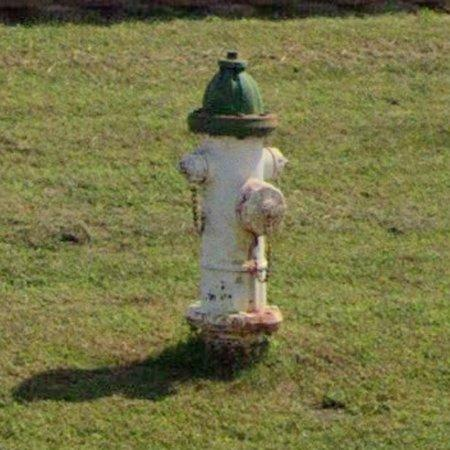a fire hydrant: (180, 51, 287, 356)
